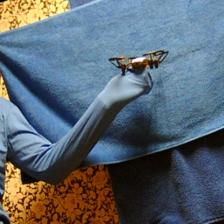drone: (108, 48, 170, 76)
